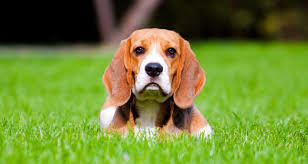Dog: (93, 22, 210, 149)
